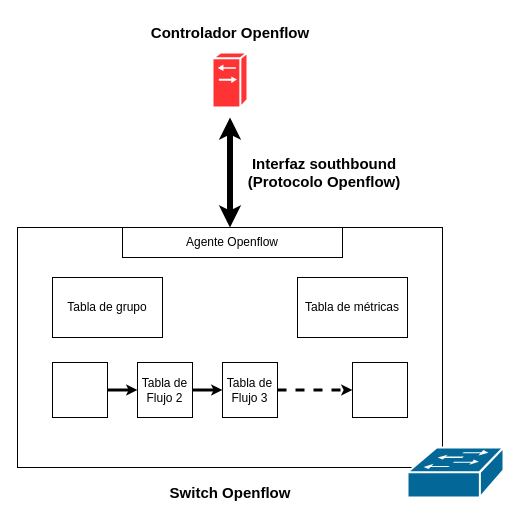
The diagram is 522 pixels wide and 524 high, and some of its shapes have lost their labels. Here are the shapes that lost their labels. From the top down, the centre of each, then its label:
At point (80, 390): "Tabla de Flujo 1".
At point (380, 390): "Tabla de Flujo N".
